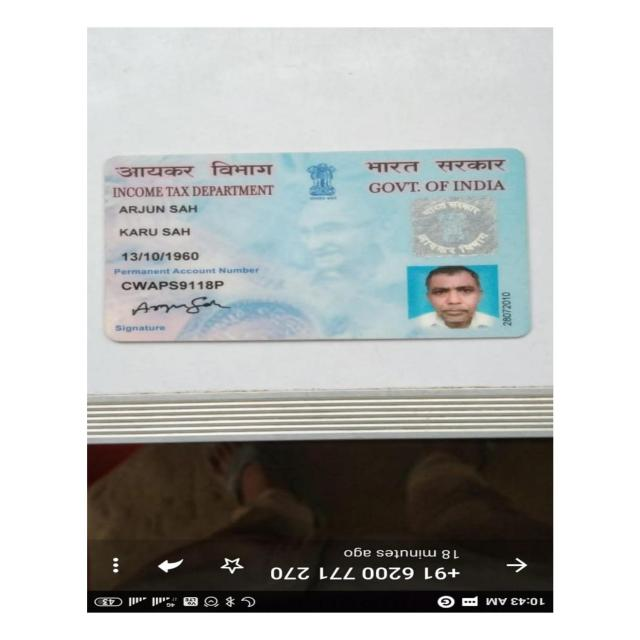pan_card: (104, 154, 537, 338)
